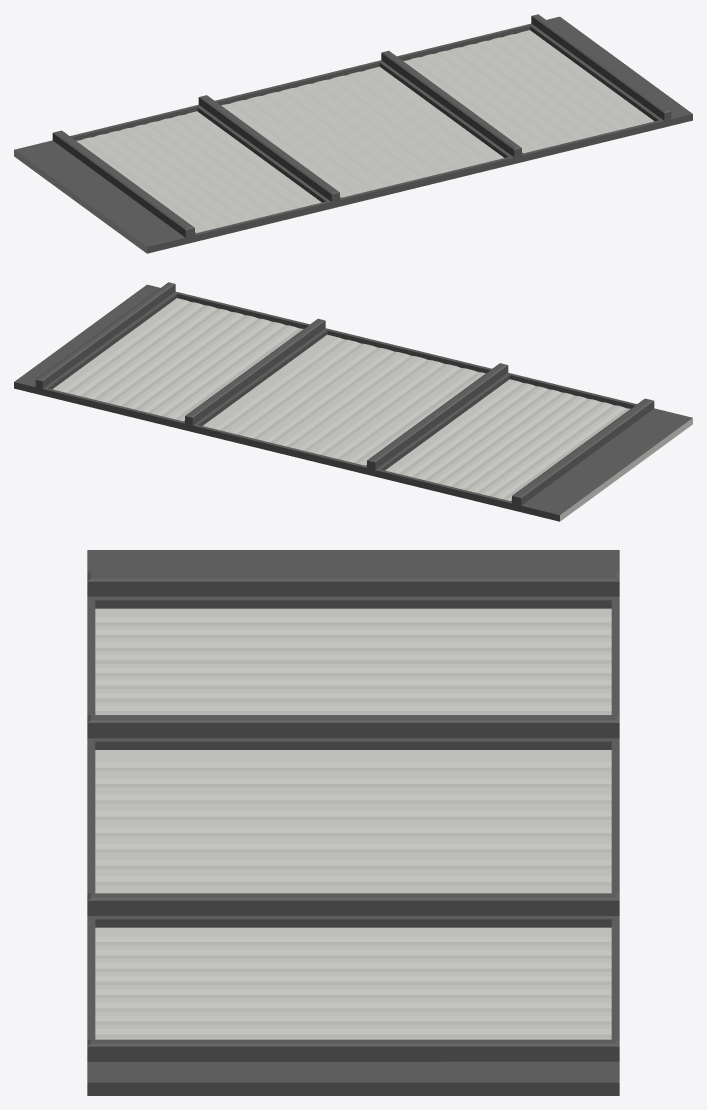
The model's file is SM_roof_interior_support.fbx.
3 renders of one model, top to bottom at view 1: azimuth 30°, elevation 25°; view 2: azimuth 150°, elevation 25°; view 3: azimuth 270°, elevation 25°, orthographic. The views are drawn at different scales.
Visible parts, largest first — view 1: roof_interior_support; view 2: roof_interior_support; view 3: roof_interior_support.
Boxes of the visible parts, bbox=[...] form: roof_interior_support: bbox=[14, 14, 692, 253]; roof_interior_support: bbox=[14, 282, 692, 521]; roof_interior_support: bbox=[87, 550, 619, 1095].
Bounding box in the file's own units: 843 × 22.03 × 356.
